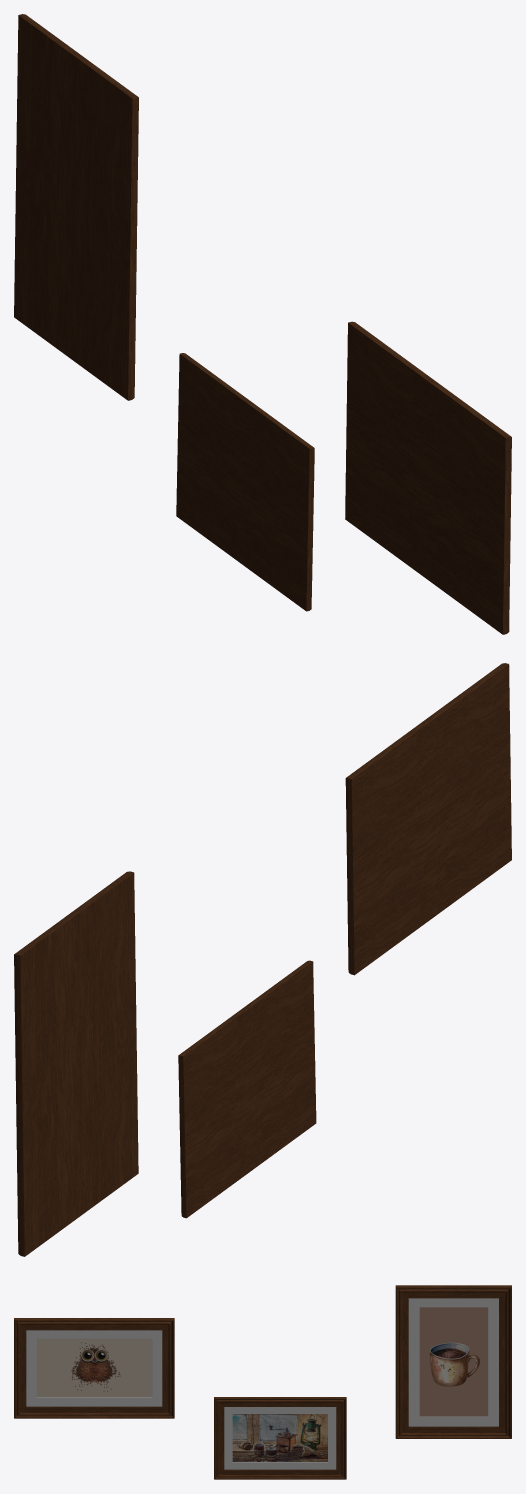
Rendered from wall_pictures.glb.
3 renders of one model, top to bottom at view 1: azimuth 30°, elevation 25°; view 2: azimuth 150°, elevation 25°; view 3: azimuth 270°, elevation 25°, orthographic. The views are drawn at different scales.
Parts seen in each view (by area): view 1: wall_picture_2, wall_picture_3, wall_picture_1; view 2: wall_picture_2, wall_picture_3, wall_picture_1; view 3: wall_picture_2, wall_picture_3, wall_picture_1.
Part boxes in pixels (<box>): wall_picture_2: <box>14,14,138,400</box>; wall_picture_3: <box>345,321,511,634</box>; wall_picture_1: <box>176,353,314,611</box>; wall_picture_2: <box>14,871,138,1256</box>; wall_picture_3: <box>345,663,511,975</box>; wall_picture_1: <box>178,960,316,1218</box>; wall_picture_2: <box>395,1285,511,1438</box>; wall_picture_3: <box>14,1318,174,1418</box>; wall_picture_1: <box>214,1397,346,1479</box>.
Size of the model in its own units: 0.0259 by 0.7888 by 1.83.
Materials: 3 (3 with a texture image).
